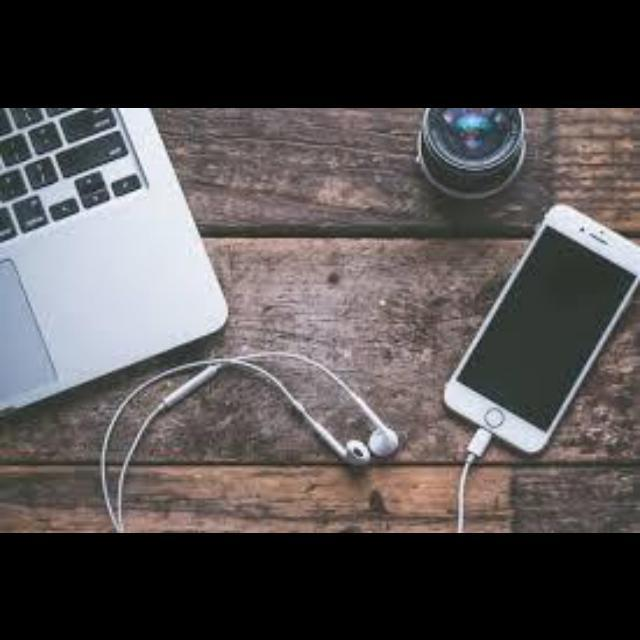PhoneUse: (436, 190, 640, 456)
